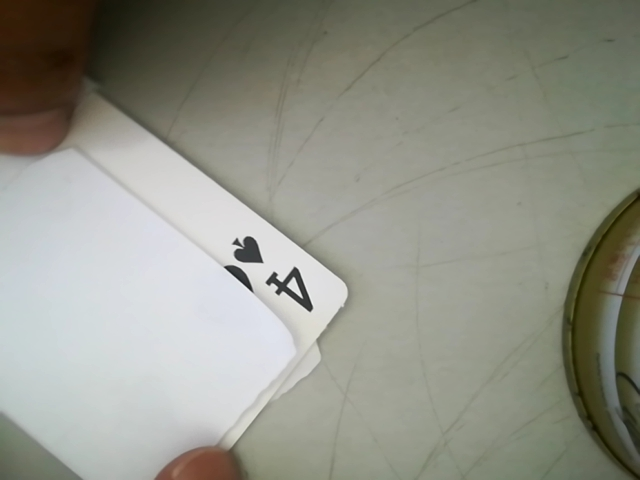ht 4: (202, 220, 338, 321)
